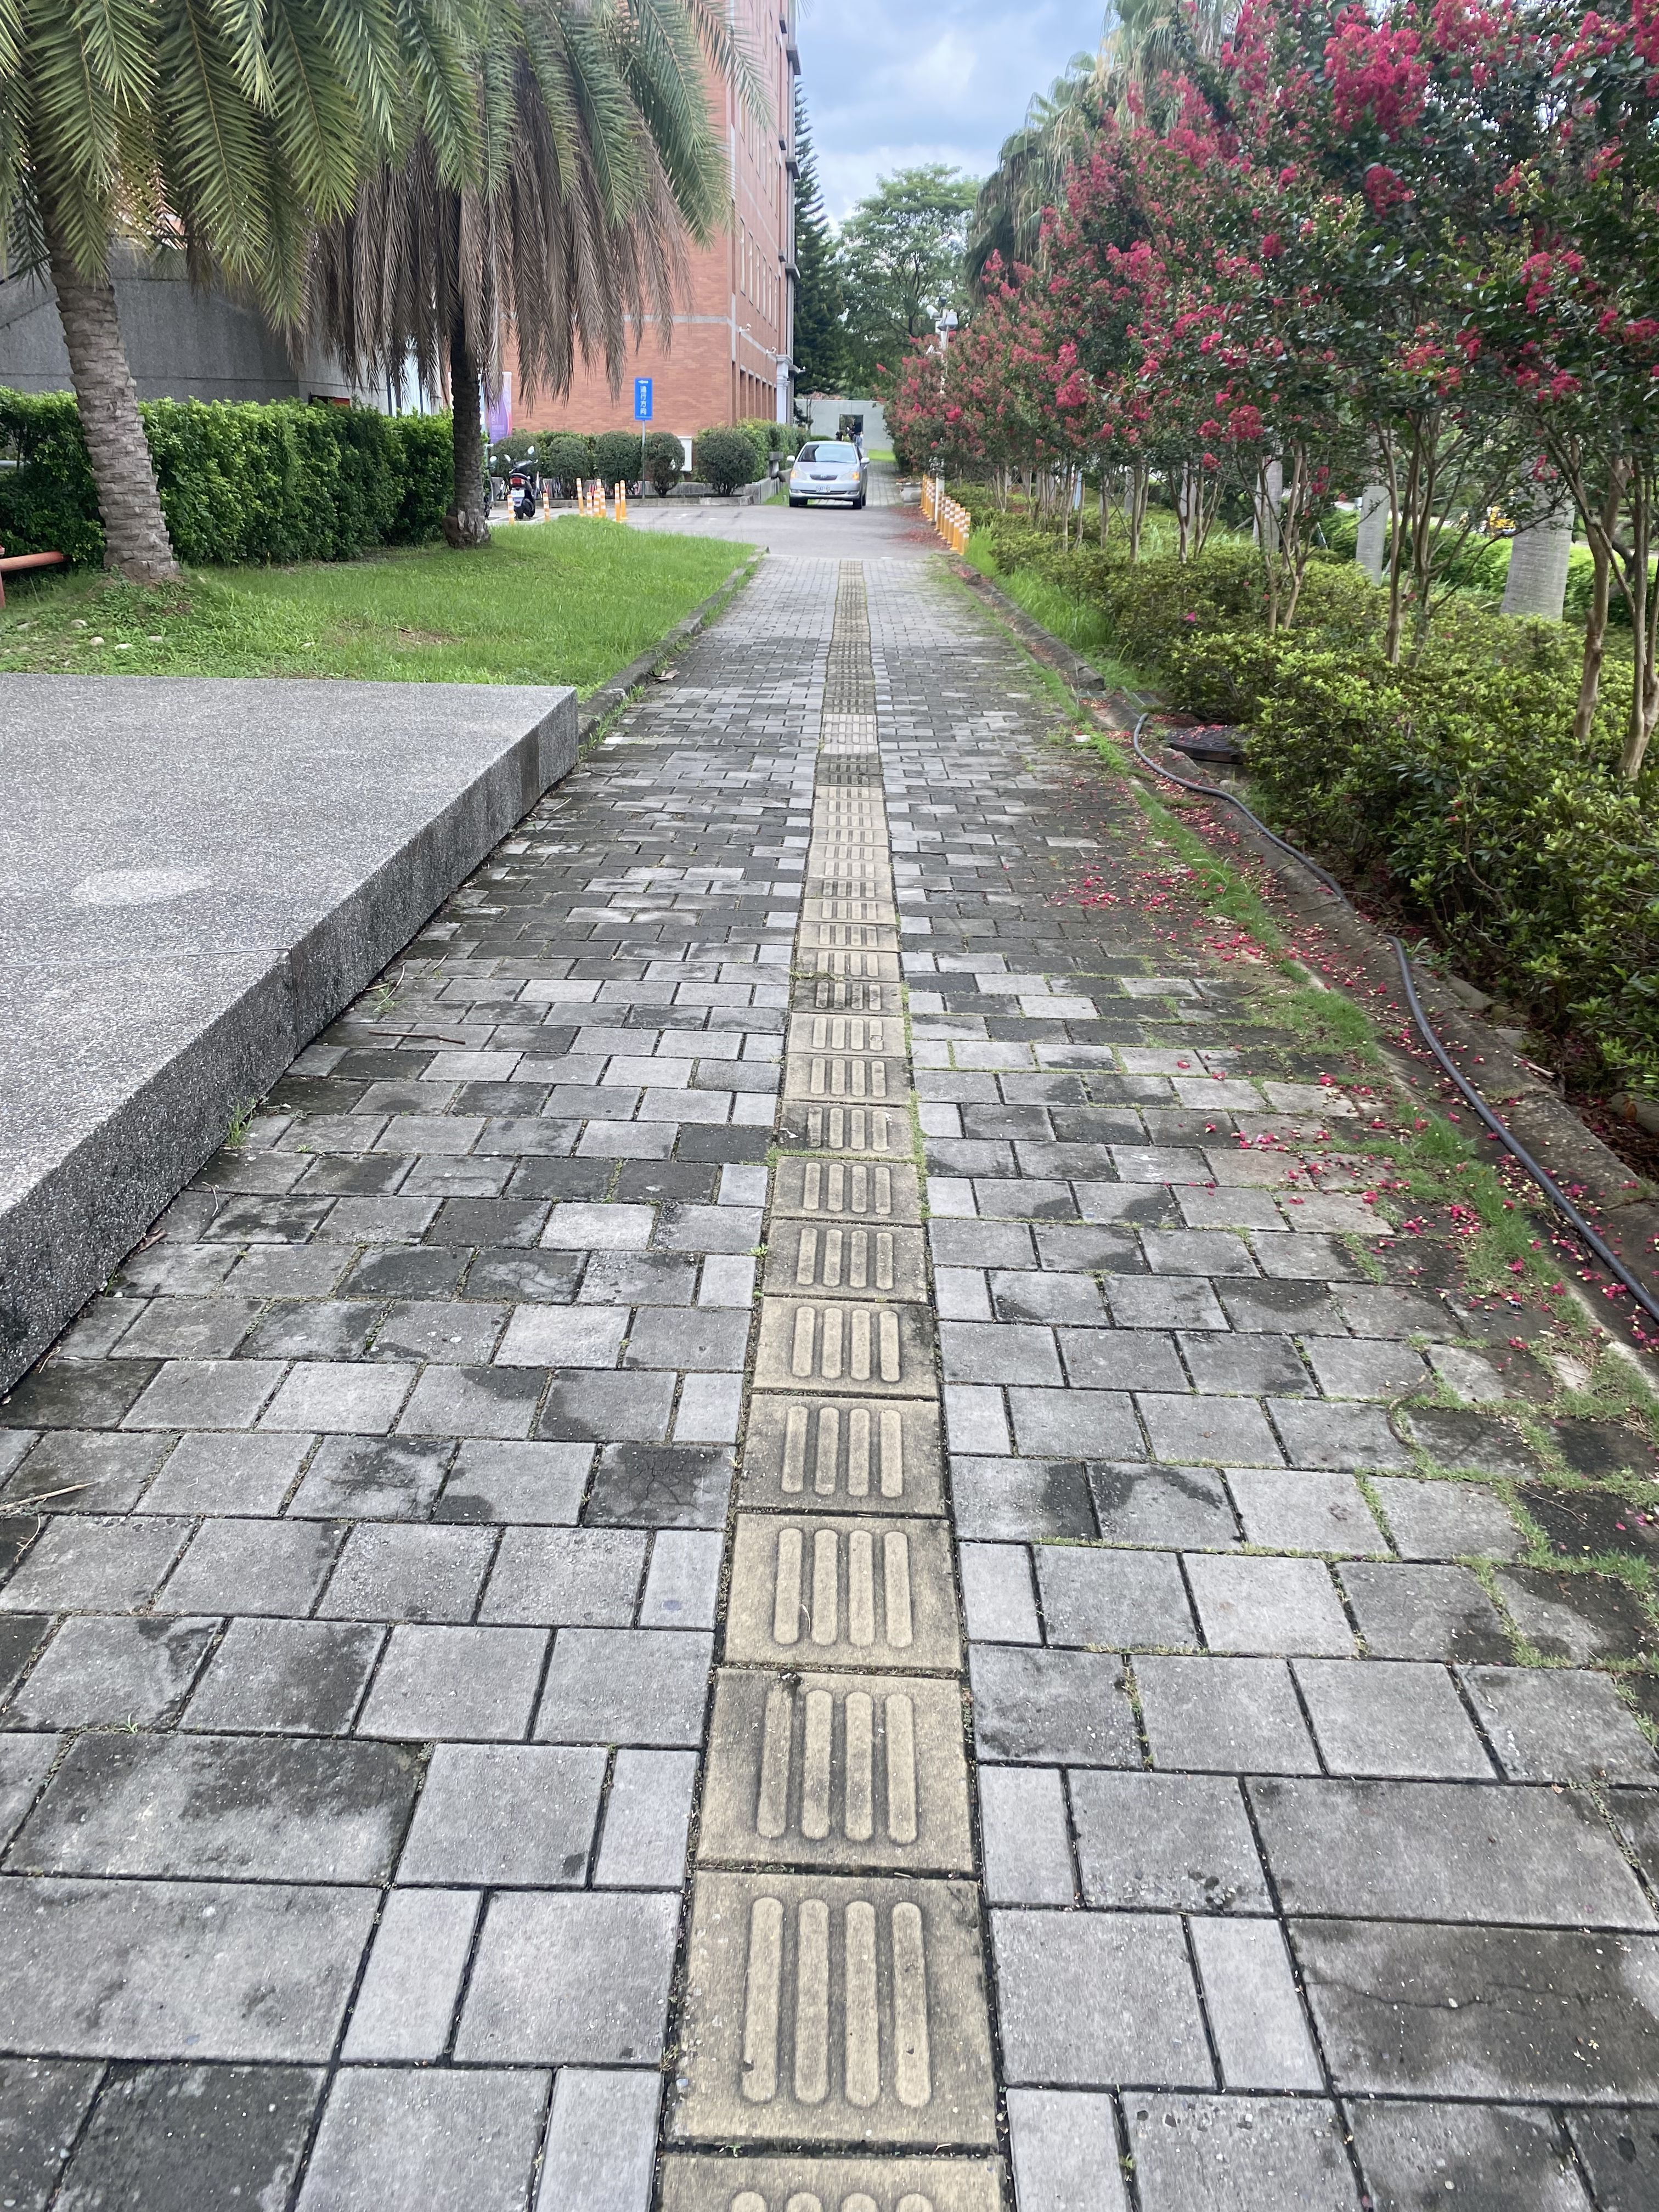0: (5, 784, 1659, 2212)
sidewalk: (608, 554, 1267, 1278)
